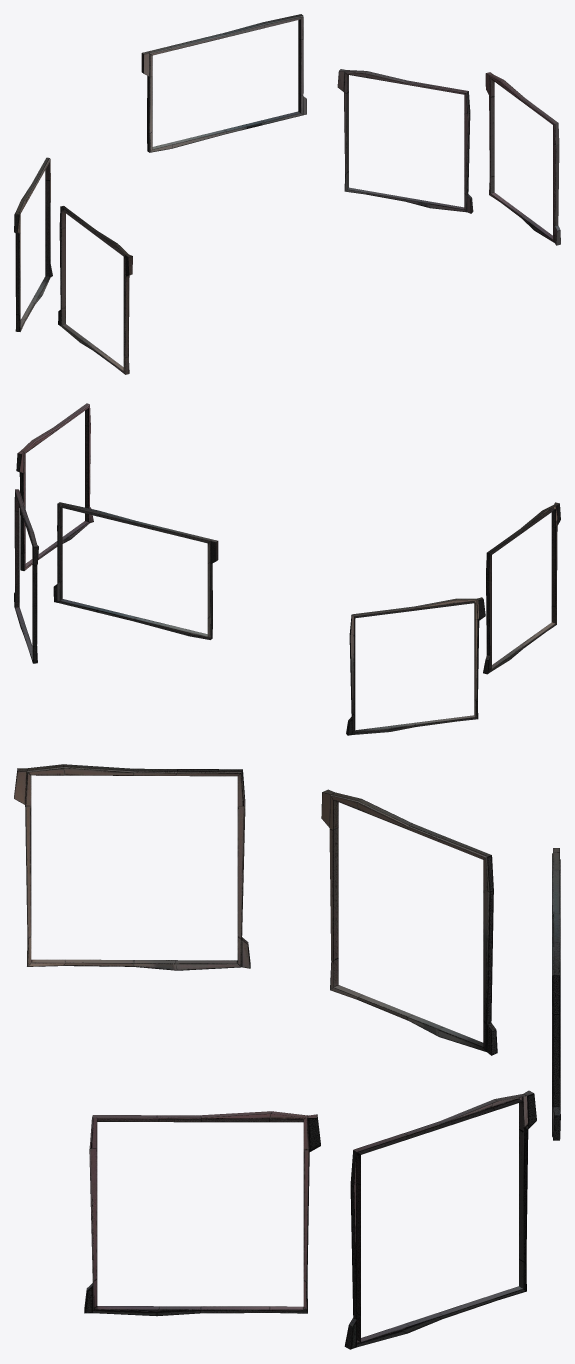
File: frames.glb
3 views of the same model, one above another, from view 1: azimuth 30°, elevation 25°; view 2: azimuth 150°, elevation 25°; view 3: azimuth 270°, elevation 25° (orthographic). The views are drawn at different scales.
Parts seen in each view (by area): view 1: PictureFrames; view 2: PictureFrames; view 3: PictureFrames.
Boxes of the visible parts, box(x1,y1,x2,y2) form: PictureFrames: box(14, 14, 560, 374); PictureFrames: box(14, 403, 560, 735); PictureFrames: box(14, 764, 560, 1349).
Bounding box in the file's own units: 9.73 × 3.6 × 5.96.
Materials: 1 (1 with a texture image).
